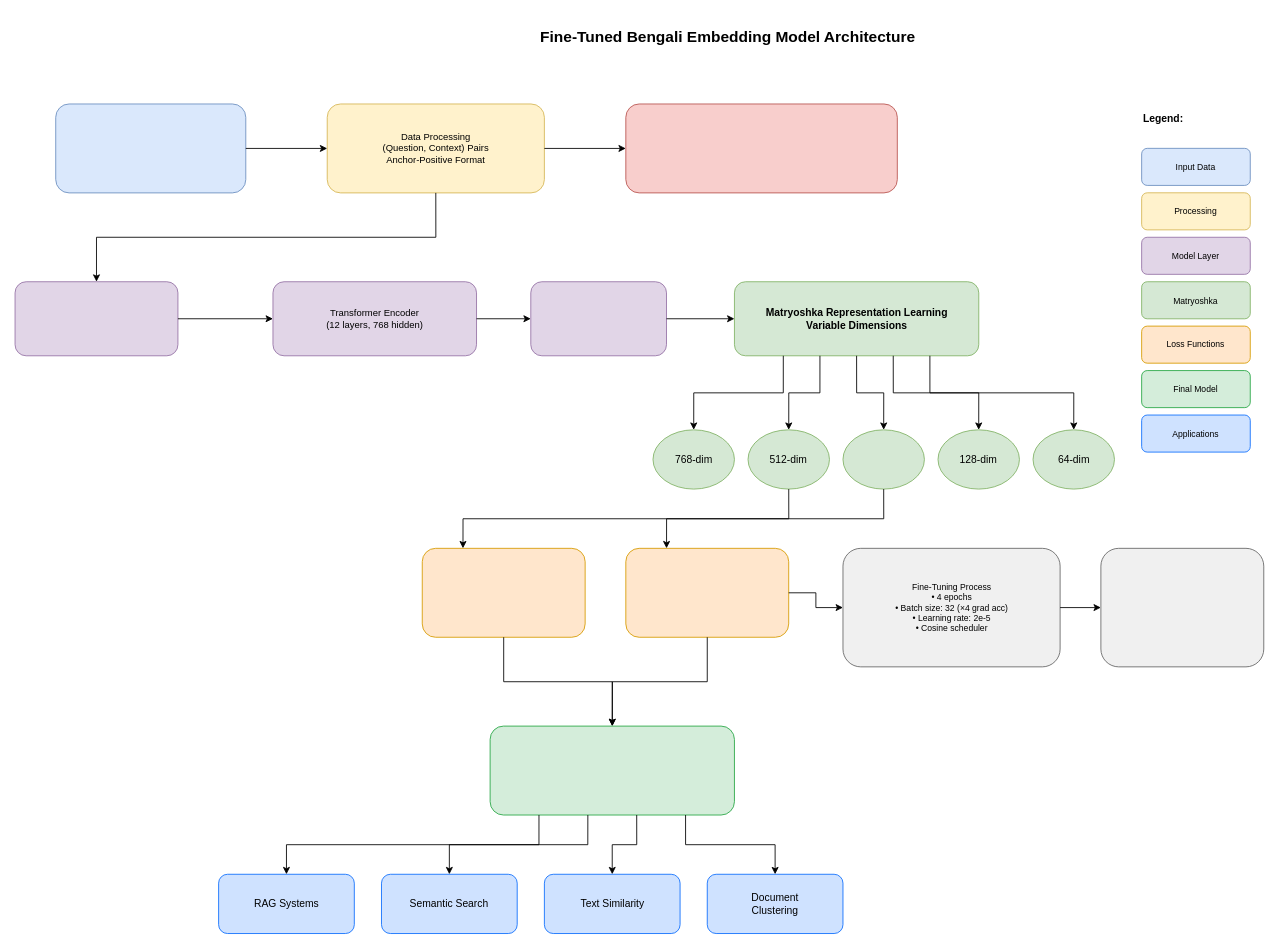
This 1279x949 diagram has some shape labels left out. The shapes that lost their labels are listed below. From the top down, each one's centre as x and y in pixels, then its label:
At (x=150, y=148): "Bengali QA Dataset (Train + Validation)".
At (x=761, y=148): "Base Model shihab17/bangla-sentence-transformer (768-dim embeddings)".
At (x=96, y=318): "Bengali Tokenizer (BERT-based)".
At (x=598, y=318): "Mean Pooling Layer".
At (x=883, y=459): "256-dim".
At (x=503, y=592): "Multiple Negatives Ranking Loss".
At (x=707, y=592): "Matryoshka Loss (Multi-dimensional)".
At (x=1182, y=607): "Evaluation Metrics • NDCG@10 • MRR@10 • MAP@100 • Accuracy@k".
At (x=611, y=770): "Fine-Tuned Bengali Embedding Model (Optimized for Retrieval)".
